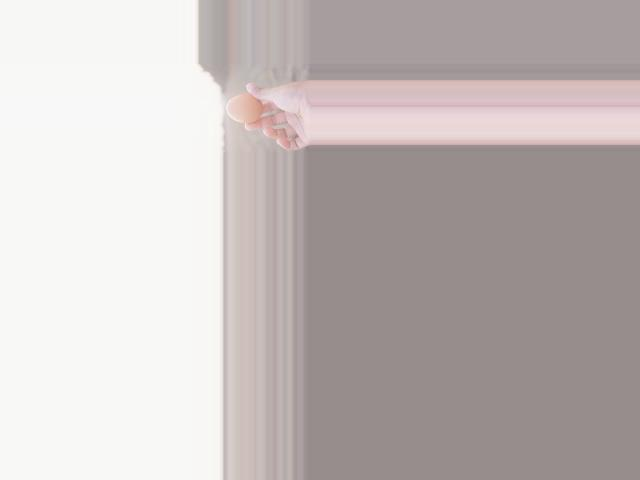egg: (226, 94, 262, 123)
